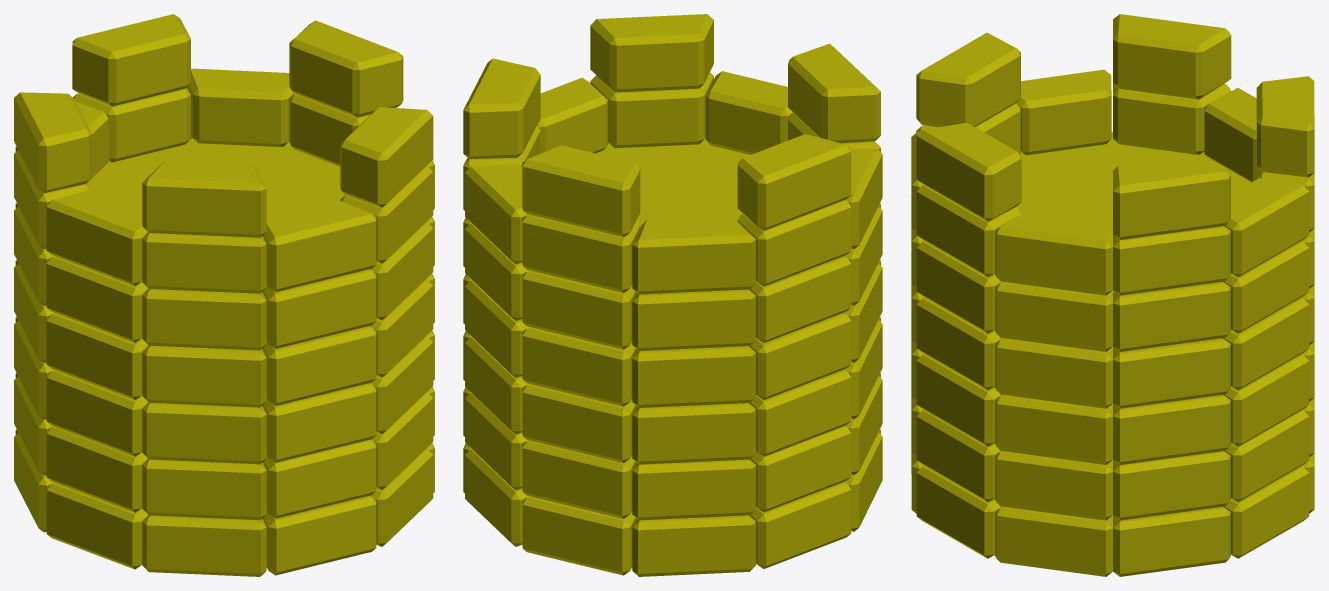
File: tower_mesh.fbx
3 views of the same model, side by side, from view 1: azimuth 30°, elevation 25°; view 2: azimuth 150°, elevation 25°; view 3: azimuth 270°, elevation 25° (orthographic).
Visible parts, largest first — view 1: halberdier_tower; view 2: halberdier_tower; view 3: halberdier_tower.
Part boxes in pixels (x1,y1,x2,y2): halberdier_tower: (14, 14, 434, 576); halberdier_tower: (463, 14, 882, 576); halberdier_tower: (911, 14, 1314, 576).
Bounding box in the file's own units: 14.86 × 15.32 × 14.31.
